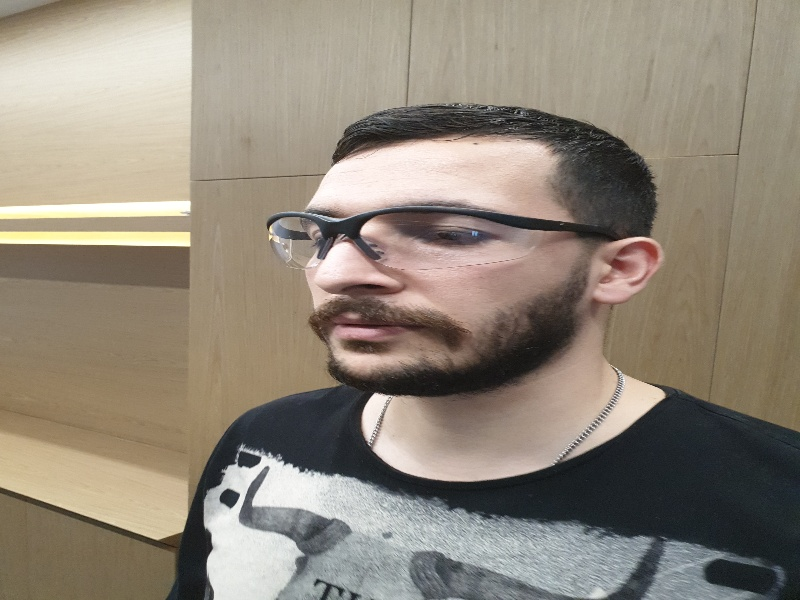Gozluk: (263, 208, 608, 276)
